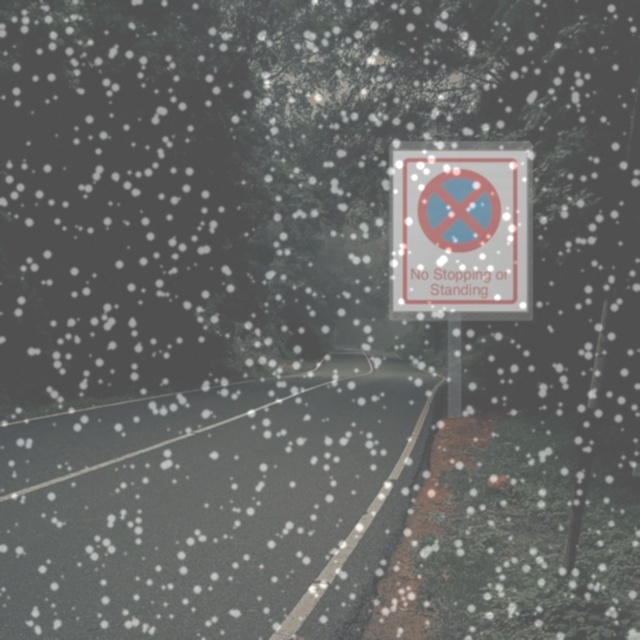No_Stopping_or_Standing: (409, 163, 512, 264)
